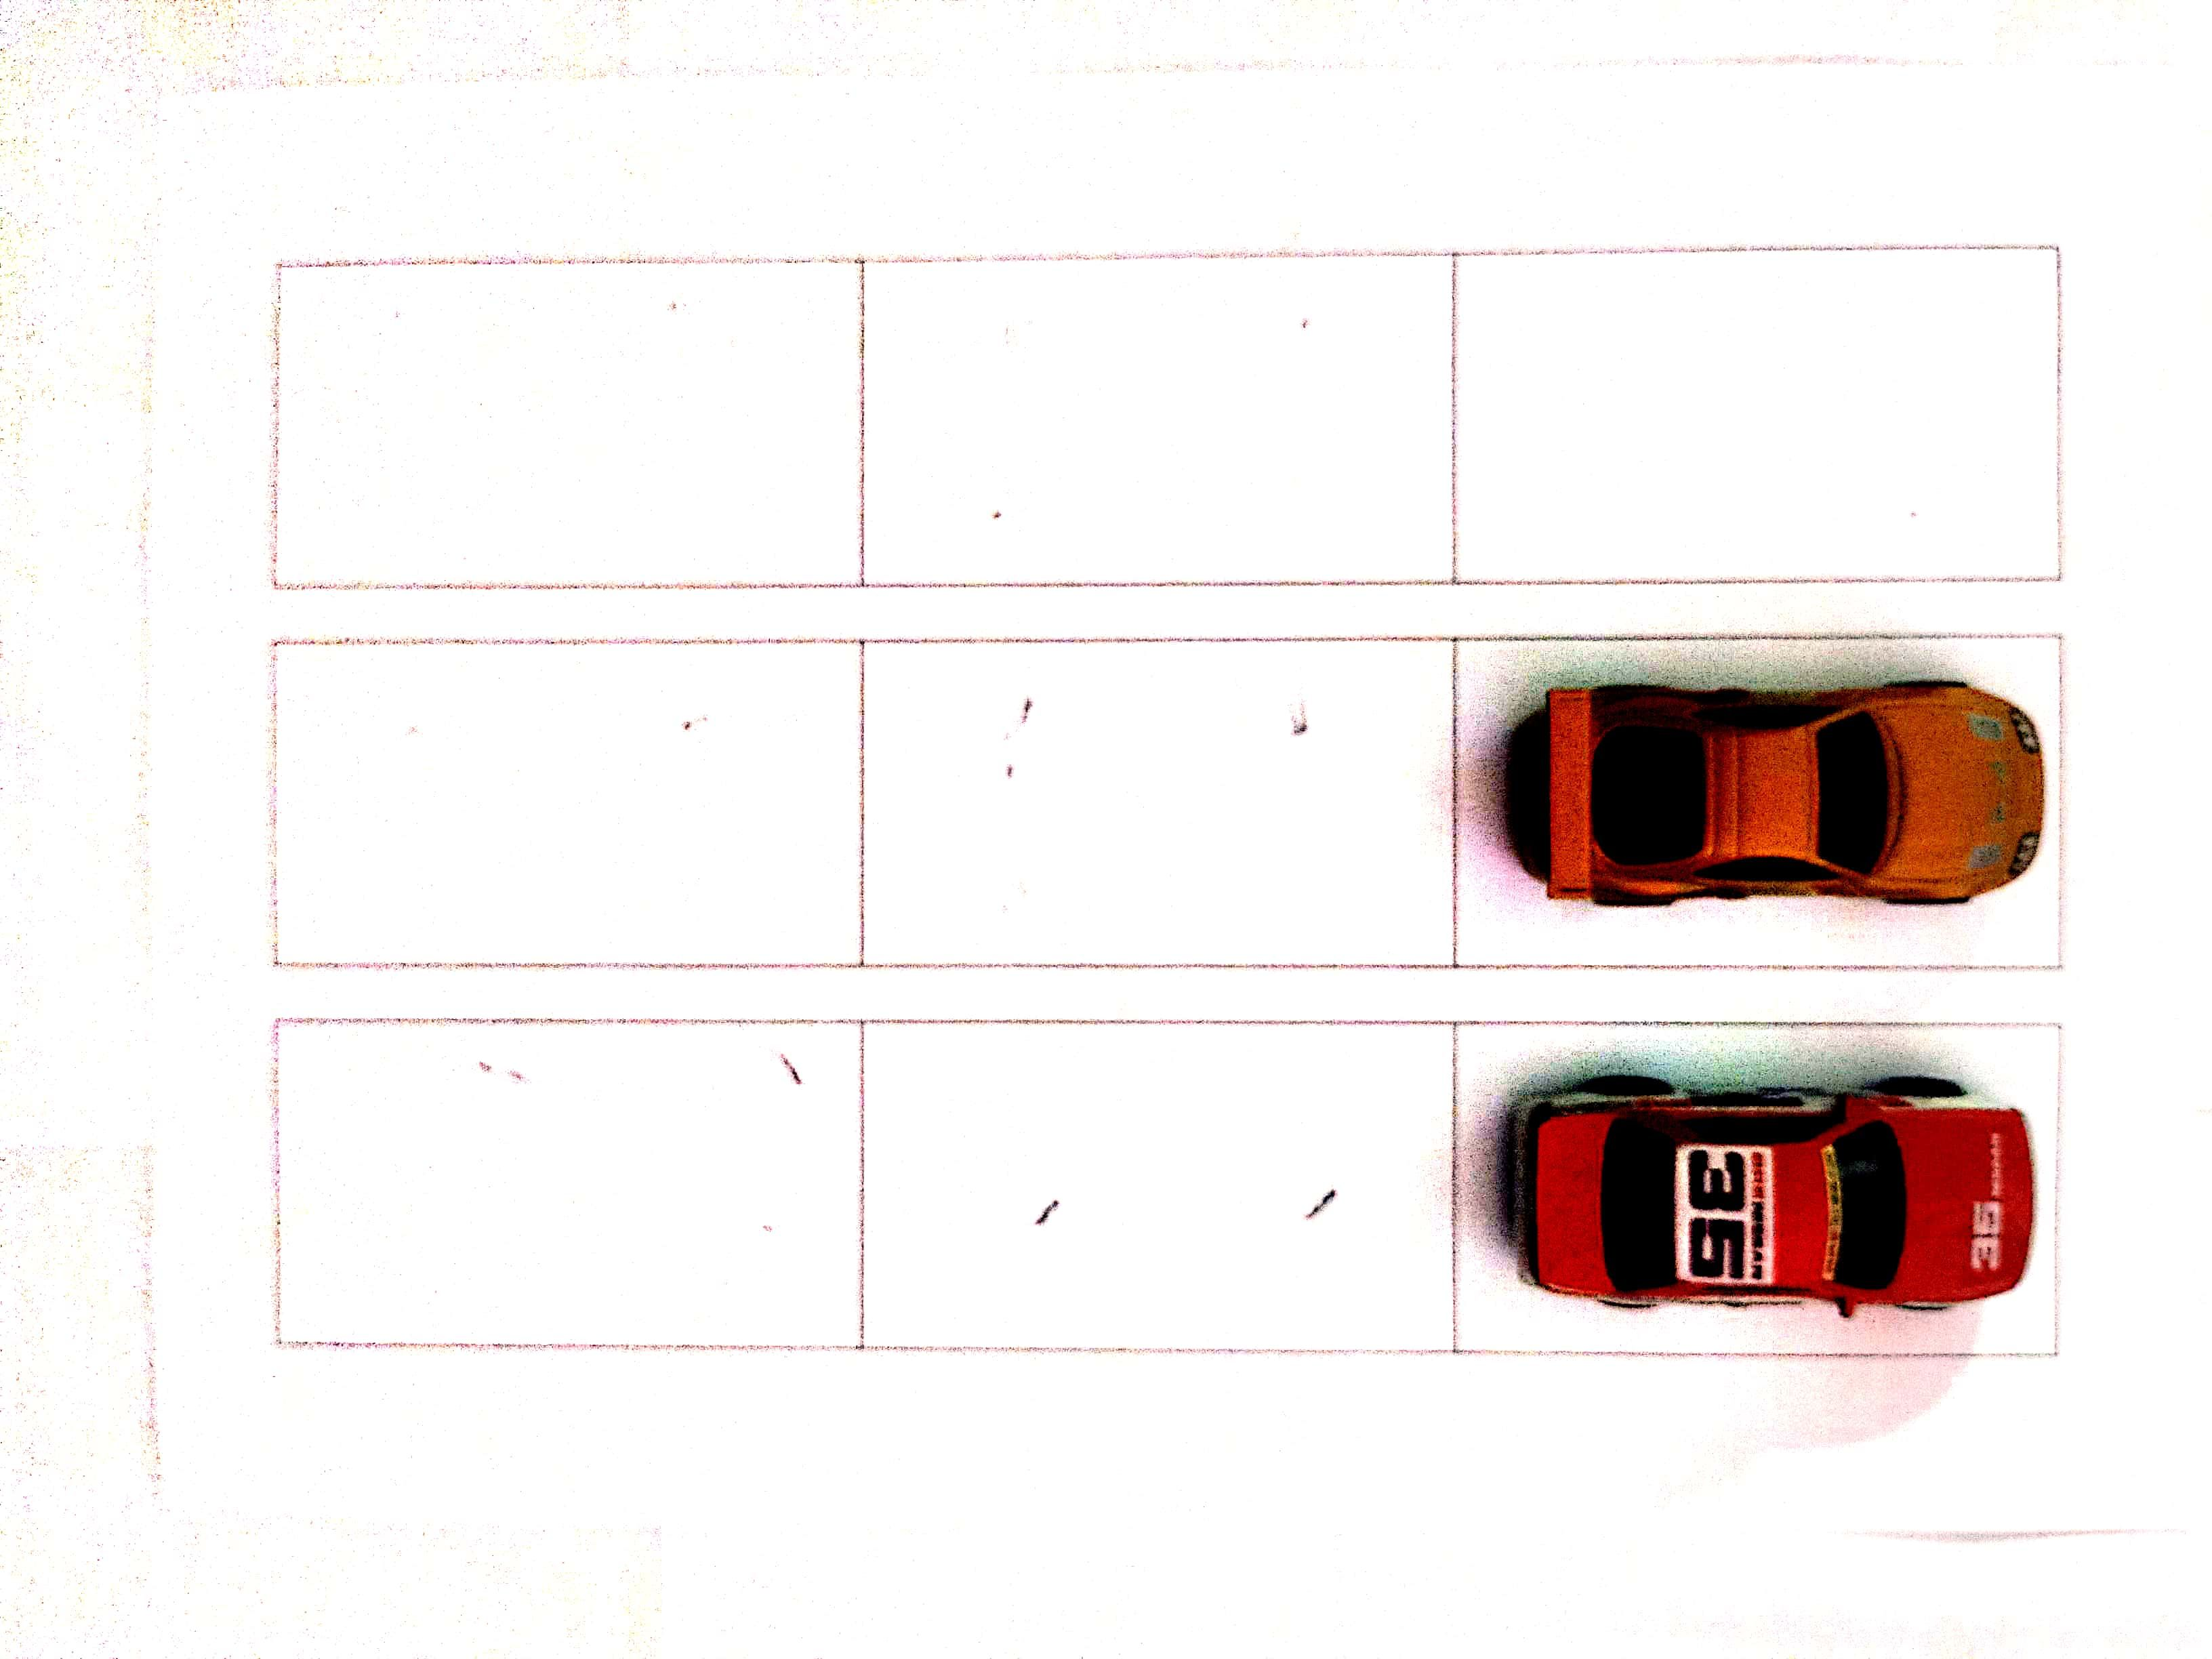Busy: (1458, 1026, 2055, 1354), (1460, 640, 2055, 964)
Free: (1458, 244, 2055, 580), (261, 640, 862, 962), (866, 1023, 1451, 1351), (860, 640, 1454, 962), (279, 261, 862, 586), (273, 1026, 866, 1342), (866, 263, 1449, 577)
